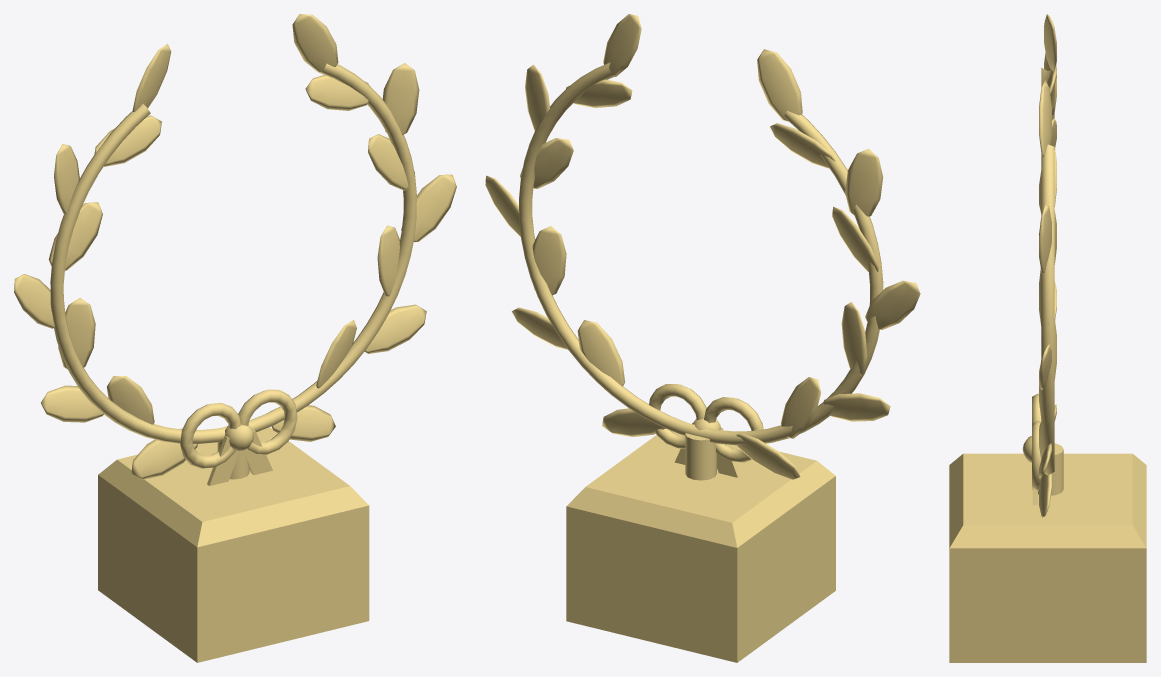
File: laurel.glb
3 views of the same model, side by side, from view 1: azimuth 30°, elevation 25°; view 2: azimuth 150°, elevation 25°; view 3: azimuth 270°, elevation 25° (orthographic).
Visible parts, largest first — view 1: laurel; view 2: laurel; view 3: laurel.
Boxes of the visible parts, x1,y1,x2,y2 form: laurel: (14,14,456,662); laurel: (485,14,920,662); laurel: (949,14,1146,662).
Bounding box in the file's own units: 0.7972 × 0.9982 × 0.3112.
